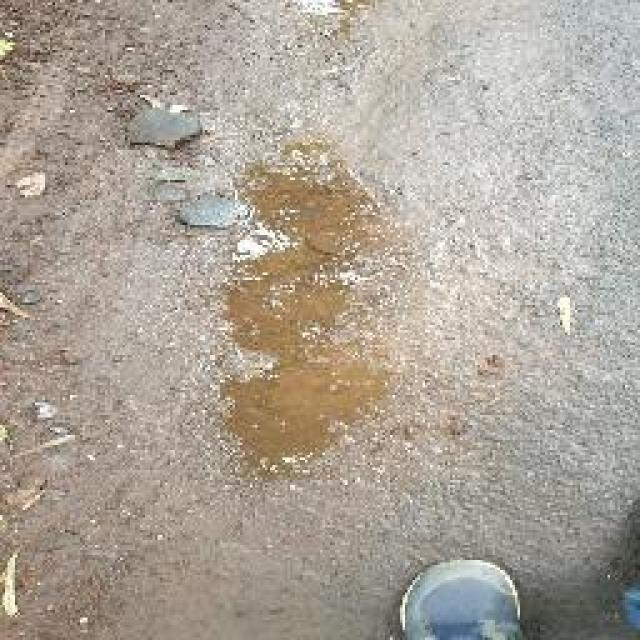puddle: (232, 174, 367, 448)
